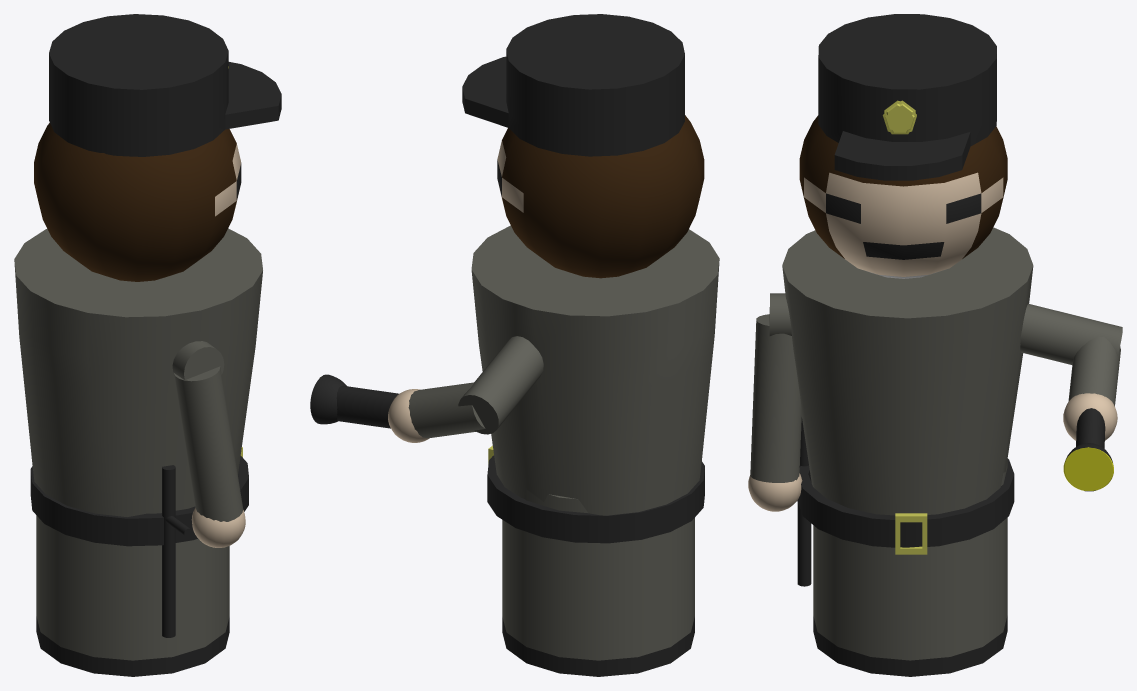
File: Wache.fbx
3 views of the same model, side by side, from view 1: azimuth 30°, elevation 25°; view 2: azimuth 150°, elevation 25°; view 3: azimuth 270°, elevation 25° (orthographic).
Parts seen in each view (by area): view 1: pCylinder4, pCylinder11, pCylinder8, pSphere2, pasted__pCylinder5, pPipe1, pCylinder9, pasted__pasted__pCylinder5, pSphere3; view 2: pCylinder4, pCylinder8, pCylinder11, pSphere2, pPipe1, pCylinder5, pasted__pasted__pasted__pCylinder5, pCylinder7, pSphere4, pasted__pSphere3; view 3: pCylinder4, pCylinder11, pCylinder8, pSphere2, pPipe1, pasted__pCylinder5, pCylinder5, pasted__pasted__pasted__pCylinder5, pSphere4, pasted__pSphere3, pSphere3, pCylinder9 (+4 smaller).
Boxes of the visible parts, left/top/right/bottom form: pCylinder4: left=14, top=228, right=262, bottom=516; pCylinder11: left=49, top=14, right=281, bottom=156; pCylinder8: left=36, top=515, right=229, bottom=676; pSphere2: left=34, top=123, right=241, bottom=281; pasted__pCylinder5: left=174, top=366, right=243, bottom=521; pPipe1: left=30, top=456, right=248, bottom=546; pCylinder9: left=162, top=465, right=175, bottom=637; pasted__pasted__pCylinder5: left=172, top=341, right=224, bottom=379; pSphere3: left=191, top=508, right=245, bottom=547; pCylinder4: left=471, top=225, right=719, bottom=515; pCylinder8: left=502, top=489, right=694, bottom=676; pCylinder11: left=462, top=14, right=684, bottom=156; pSphere2: left=497, top=115, right=704, bottom=278; pPipe1: left=487, top=455, right=704, bottom=543; pCylinder5: left=458, top=336, right=543, bottom=434; pasted__pasted__pasted__pCylinder5: left=408, top=382, right=485, bottom=438; pCylinder7: left=336, top=385, right=398, bottom=428; pSphere4: left=310, top=374, right=346, bottom=424; pasted__pSphere3: left=388, top=389, right=429, bottom=442; pCylinder4: left=782, top=227, right=1033, bottom=515; pCylinder11: left=818, top=14, right=996, bottom=180; pCylinder8: left=813, top=459, right=1007, bottom=676; pSphere2: left=799, top=115, right=1007, bottom=278; pPipe1: left=797, top=458, right=1014, bottom=547; pasted__pCylinder5: left=750, top=314, right=801, bottom=482; pCylinder5: left=1020, top=303, right=1122, bottom=364; pasted__pasted__pasted__pCylinder5: left=1068, top=336, right=1120, bottom=406; pSphere4: left=1063, top=443, right=1113, bottom=491; pasted__pSphere3: left=1063, top=393, right=1117, bottom=440; pSphere3: left=748, top=473, right=802, bottom=511; pCylinder9: left=797, top=417, right=811, bottom=586.
Bounding box in the file's own units: 5.55 × 10.57 × 6.12.
